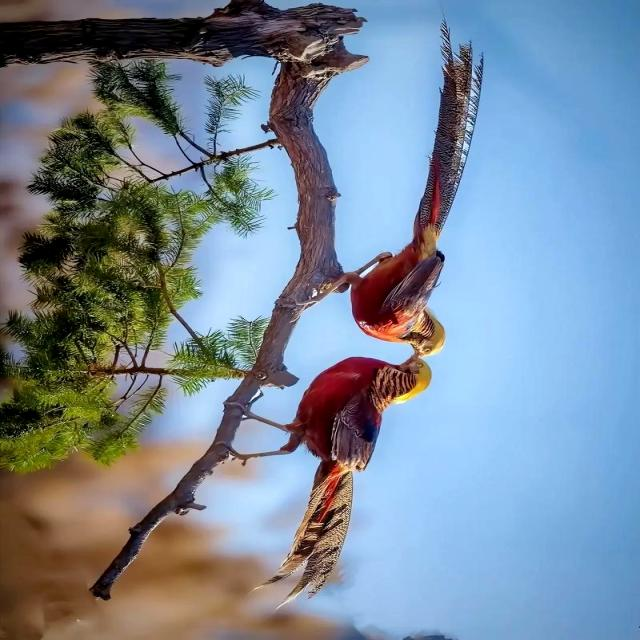Chrysolophus pictus feather: (413, 22, 483, 246), (255, 461, 354, 611)
